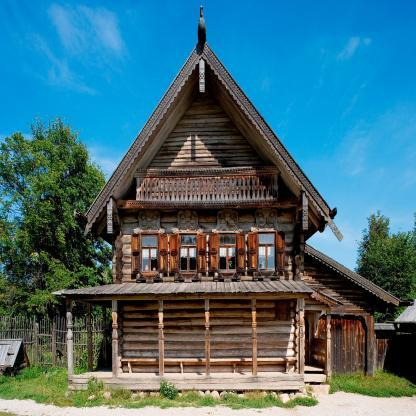Balcony: (198, 6, 206, 42)
Blind: (197, 233, 207, 273), (131, 234, 141, 273), (248, 232, 258, 271), (169, 234, 179, 273), (237, 232, 246, 272), (159, 234, 168, 273), (276, 232, 285, 271), (209, 233, 218, 272)
Building Outline: (50, 6, 415, 391)
Door: (297, 317, 309, 365)
Facade: (112, 173, 303, 391)
Floor Slab: (112, 285, 374, 291)
Ground Floor: (112, 291, 374, 391)
Molding: (133, 166, 281, 201)
Pillar: (66, 300, 73, 375), (112, 300, 118, 377), (251, 298, 257, 375), (158, 300, 164, 376), (298, 298, 304, 374), (205, 299, 210, 375), (325, 311, 331, 370)
Roof: (73, 41, 344, 246), (304, 242, 415, 315), (50, 280, 316, 295)
Top Floor: (112, 173, 303, 285)
Window: (258, 232, 276, 271), (180, 234, 198, 273), (219, 233, 237, 272), (141, 234, 159, 273)
Window Outline: (250, 208, 282, 281), (133, 210, 165, 283), (211, 209, 243, 282), (172, 210, 204, 282)
